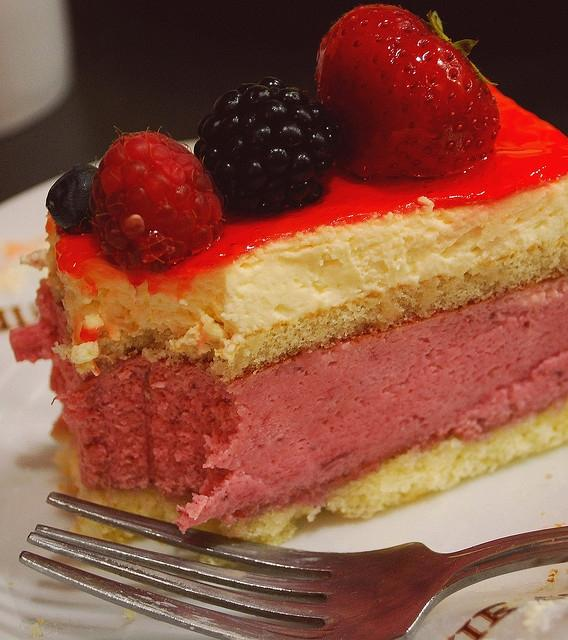blackberry: (194, 76, 340, 216)
blueberry: (46, 163, 98, 230)
raspberry: (88, 130, 224, 272)
